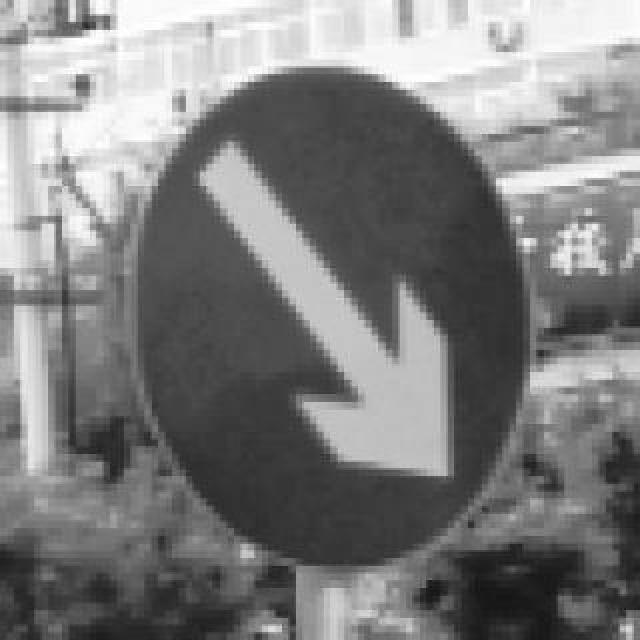keep right: (104, 52, 544, 566)
